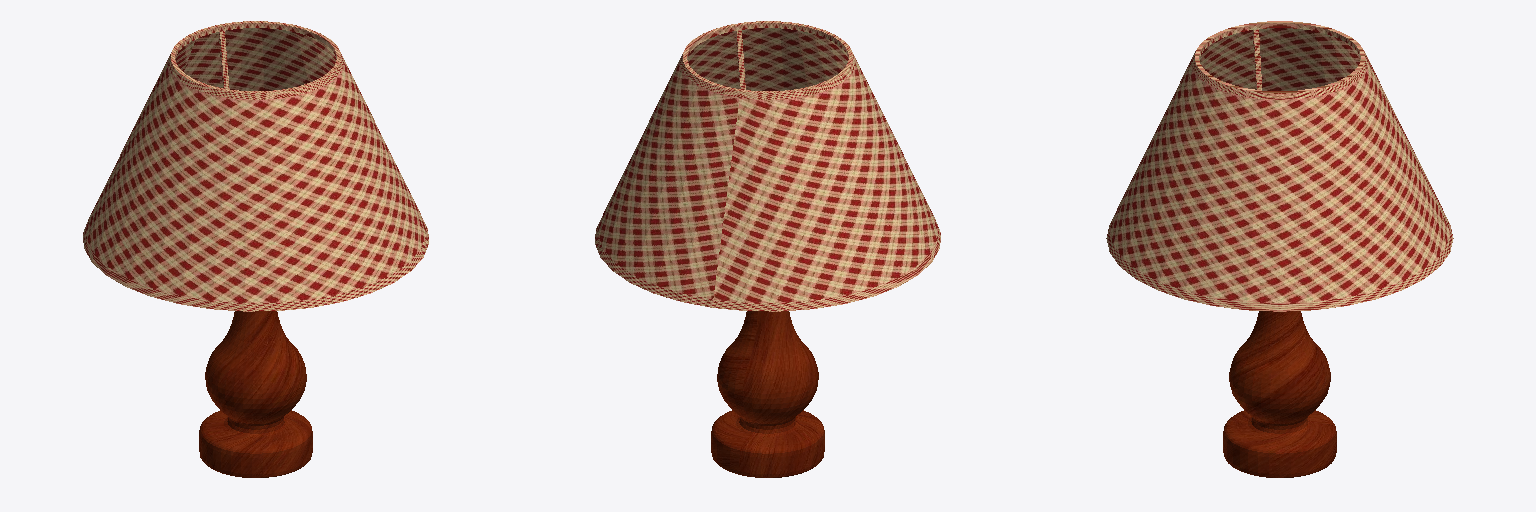
3 renders of one model, left to right at view 1: azimuth 30°, elevation 25°; view 2: azimuth 150°, elevation 25°; view 3: azimuth 270°, elevation 25°, orthographic.
Visible parts, largest first — view 1: lamp2_Circle.002, lamp2_sub_Circle.003; view 2: lamp2_Circle.002, lamp2_sub_Circle.003; view 3: lamp2_Circle.002, lamp2_sub_Circle.003.
Part boxes in pixels (left/top/right/bottom): lamp2_Circle.002: left=83, top=21, right=428, bottom=311; lamp2_sub_Circle.003: left=199, top=311, right=312, bottom=477; lamp2_Circle.002: left=595, top=21, right=940, bottom=311; lamp2_sub_Circle.003: left=711, top=311, right=824, bottom=477; lamp2_Circle.002: left=1106, top=21, right=1453, bottom=311; lamp2_sub_Circle.003: left=1223, top=311, right=1336, bottom=477.
Size of the model in its own units: 33.15 by 41.9 by 33.15.
6 materials, 2 textured.